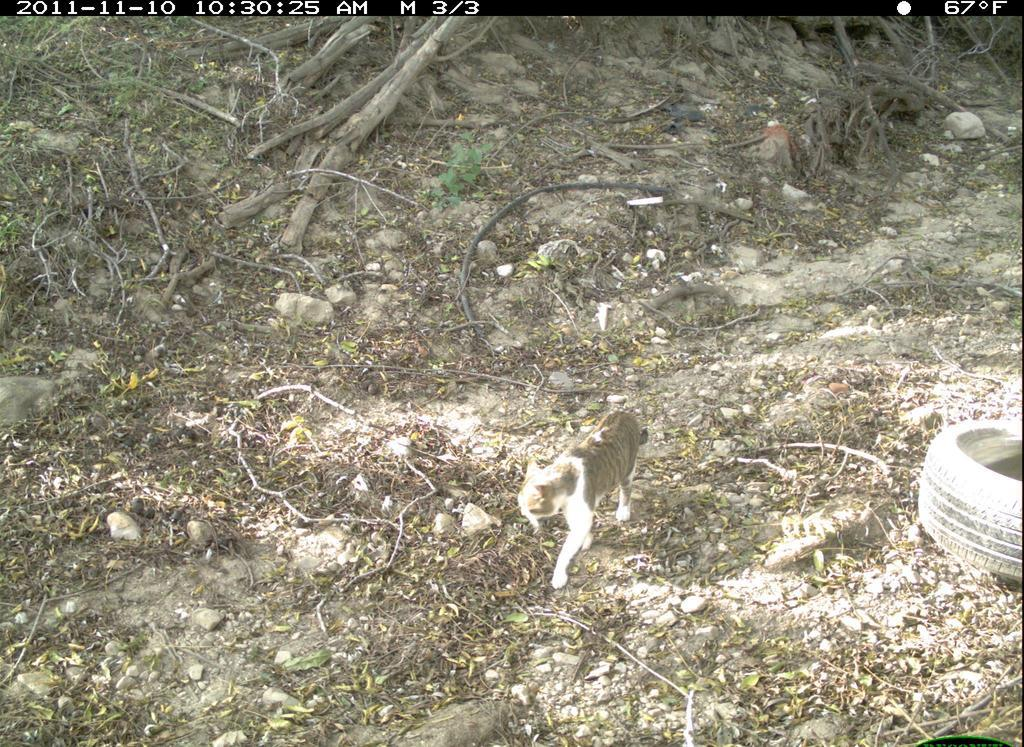cat: (504, 408, 675, 601)
